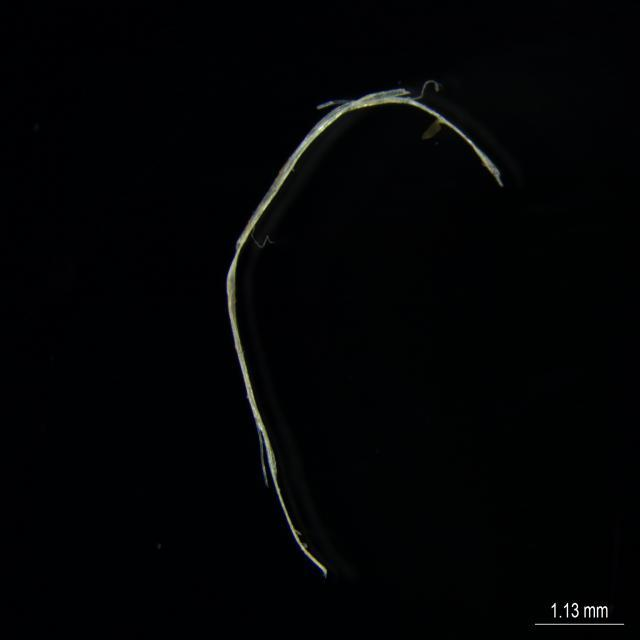fibers: (126, 51, 524, 578)
